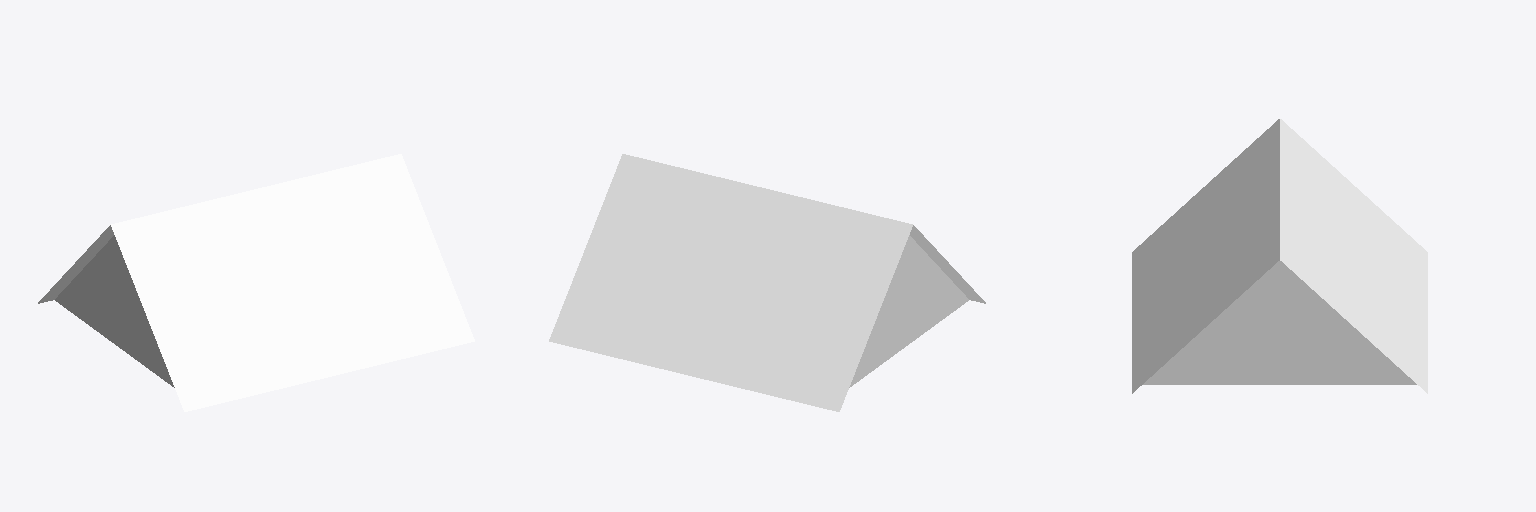
The model's file is wall-b-roof-detailed.obj.
3 views of the same model, side by side, from view 1: azimuth 30°, elevation 25°; view 2: azimuth 150°, elevation 25°; view 3: azimuth 270°, elevation 25° (orthographic).
Parts seen in each view (by area): view 1: wall-b-roof-detailed; view 2: wall-b-roof-detailed; view 3: wall-b-roof-detailed.
Part boxes in pixels (x1,y1,x2,y2): wall-b-roof-detailed: (38,154,474,411); wall-b-roof-detailed: (549,154,985,411); wall-b-roof-detailed: (1132,119,1427,393).
Bounding box in the file's own units: 1.14 × 0.5 × 1.